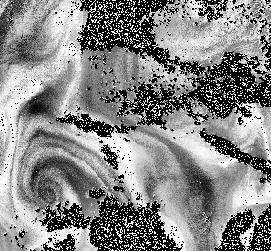CE: (9, 133, 107, 213)
